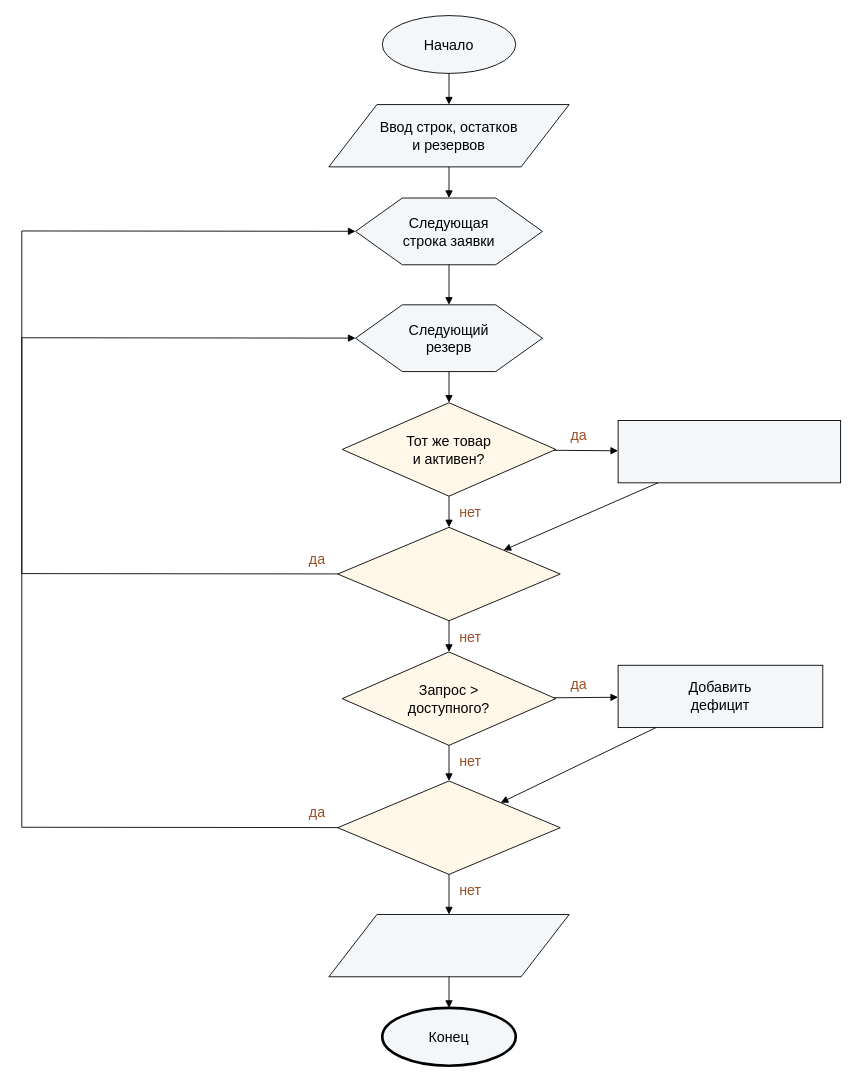
Image size: 856x1082. Some labels were removed from this diagram. Each missing label, with the centre of its shape:
"Вывод списка дефицита" belongs at (x=448, y=945).
"Есть ещё резервы?" belongs at (x=448, y=573).
"Есть ещё строки?" belongs at (x=448, y=827).
"Сложить зарезервированное" belongs at (x=729, y=451).
